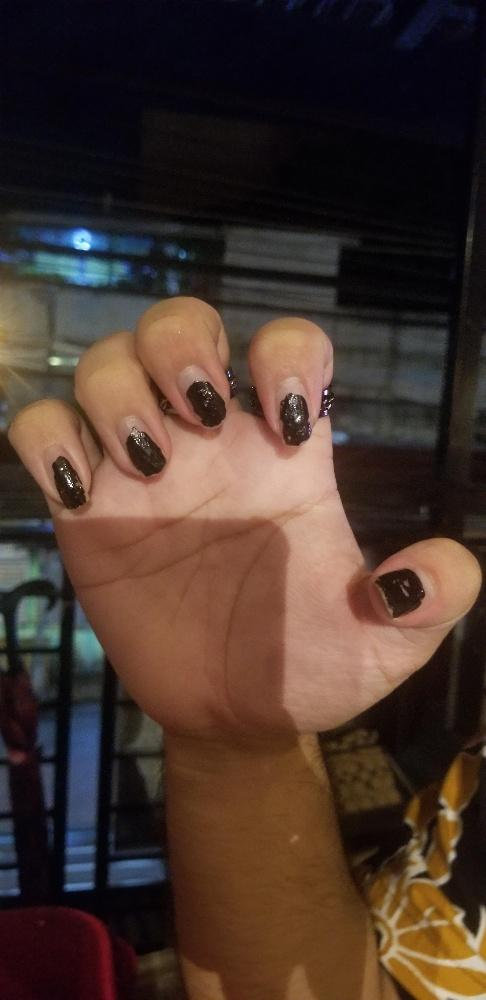e: (7, 280, 469, 736)
